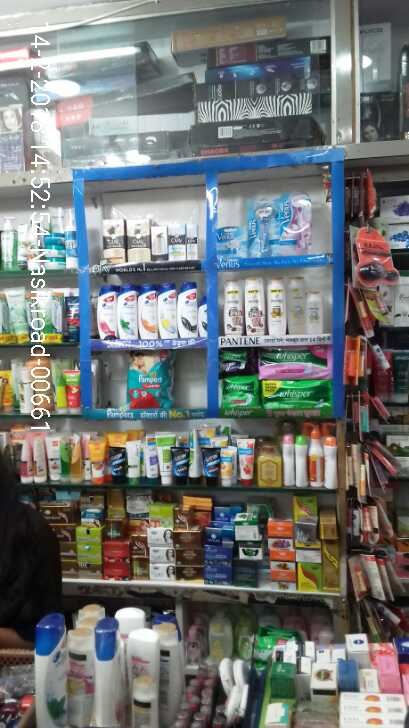venus: (279, 191, 310, 253), (248, 193, 280, 253), (210, 227, 249, 258)
